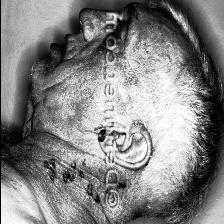Unclassified: (68, 157, 86, 189), (96, 125, 106, 151)
